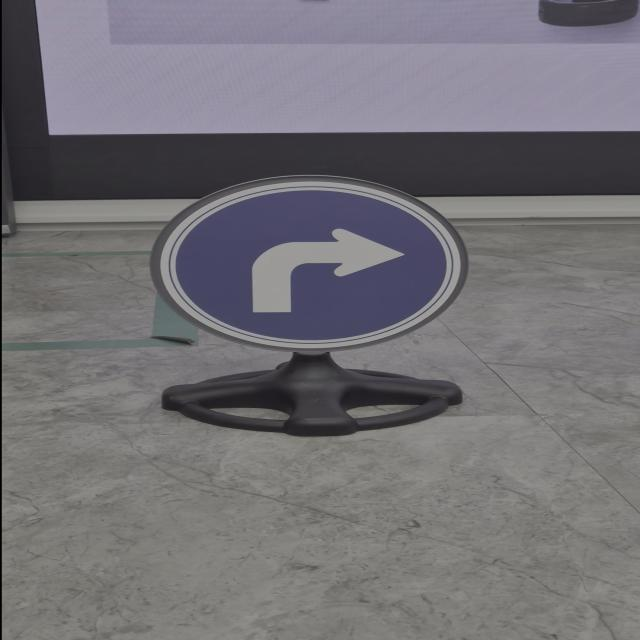right_dierection: (150, 173, 465, 354)
